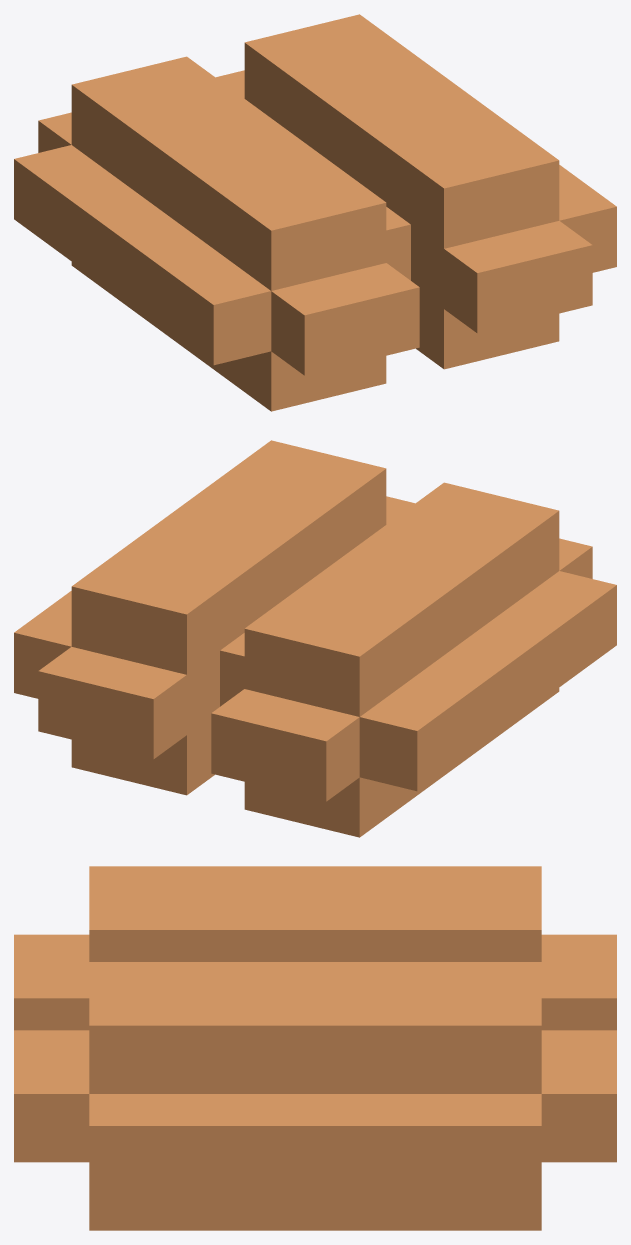
File: PAKO.fbx
3 views of the same model, one above another, from view 1: azimuth 30°, elevation 25°; view 2: azimuth 150°, elevation 25°; view 3: azimuth 270°, elevation 25° (orthographic). The views are drawn at different scales.
Parts seen in each view (by area): view 1: PAKO:PAKO; view 2: PAKO:PAKO; view 3: PAKO:PAKO.
Part boxes in pixels (x1,y1,x2,y2): PAKO:PAKO: (14, 14, 616, 411); PAKO:PAKO: (14, 440, 616, 837); PAKO:PAKO: (14, 866, 616, 1230).
Size of the model in its own units: 7 by 3 by 8.
